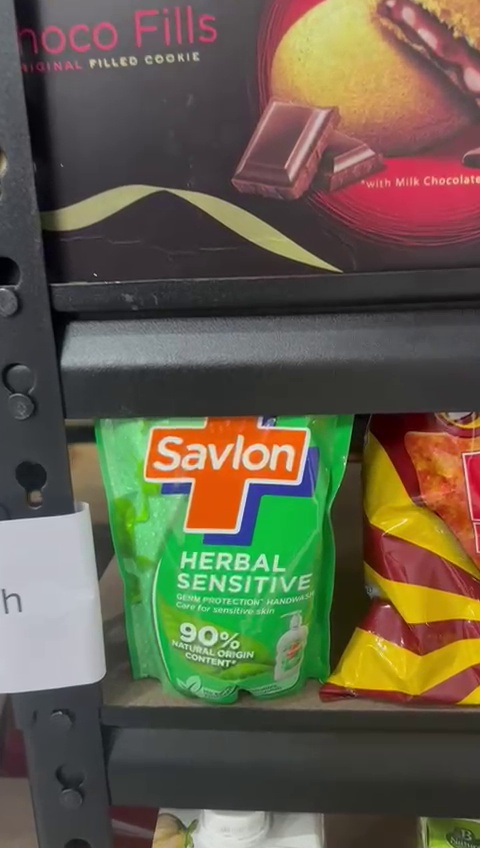Savlon Herbal: (95, 413, 350, 710)
